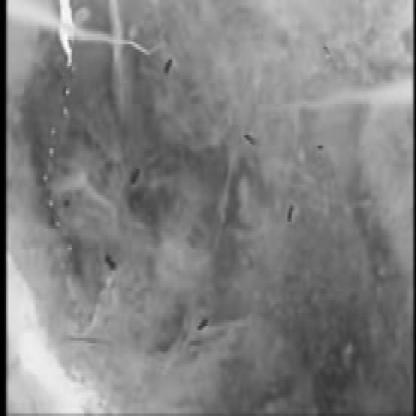rehkitze: (56, 1, 76, 71)
